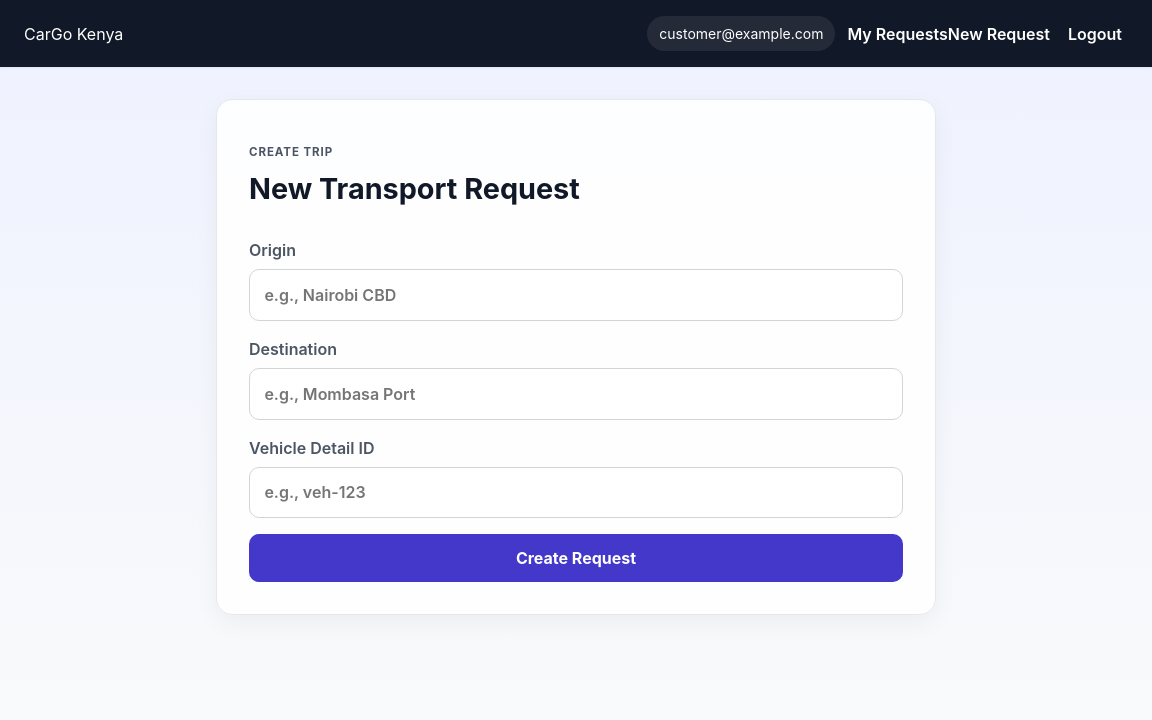
Test: customer foundation workflow › validates vehicleDetailId field when creating a transport request
Step 1. Type "Nairobi" into the field labelled "Origin" → (576, 295), box top-left (249, 269), bottom-right (903, 321)
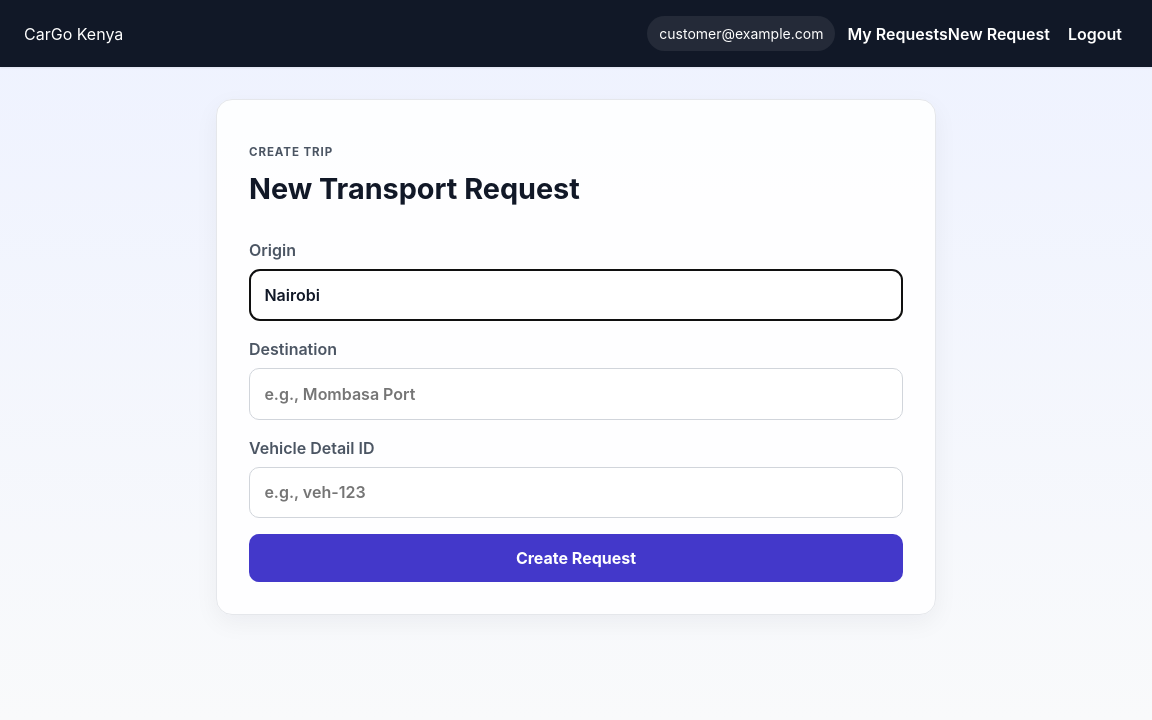
Step 2. Type "Mombasa" into the field labelled "Destination" → (576, 394), box top-left (249, 368), bottom-right (903, 420)
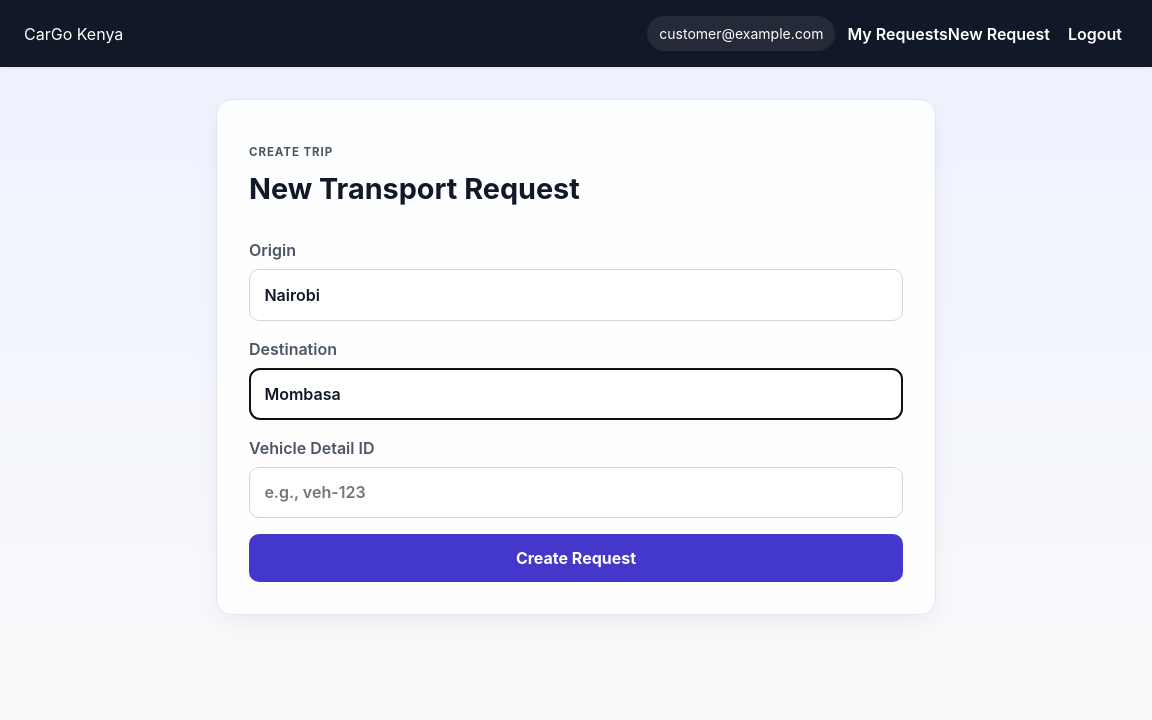
Step 3. Click the button "Create Request" → click(576, 558), box top-left (249, 534), bottom-right (903, 582)
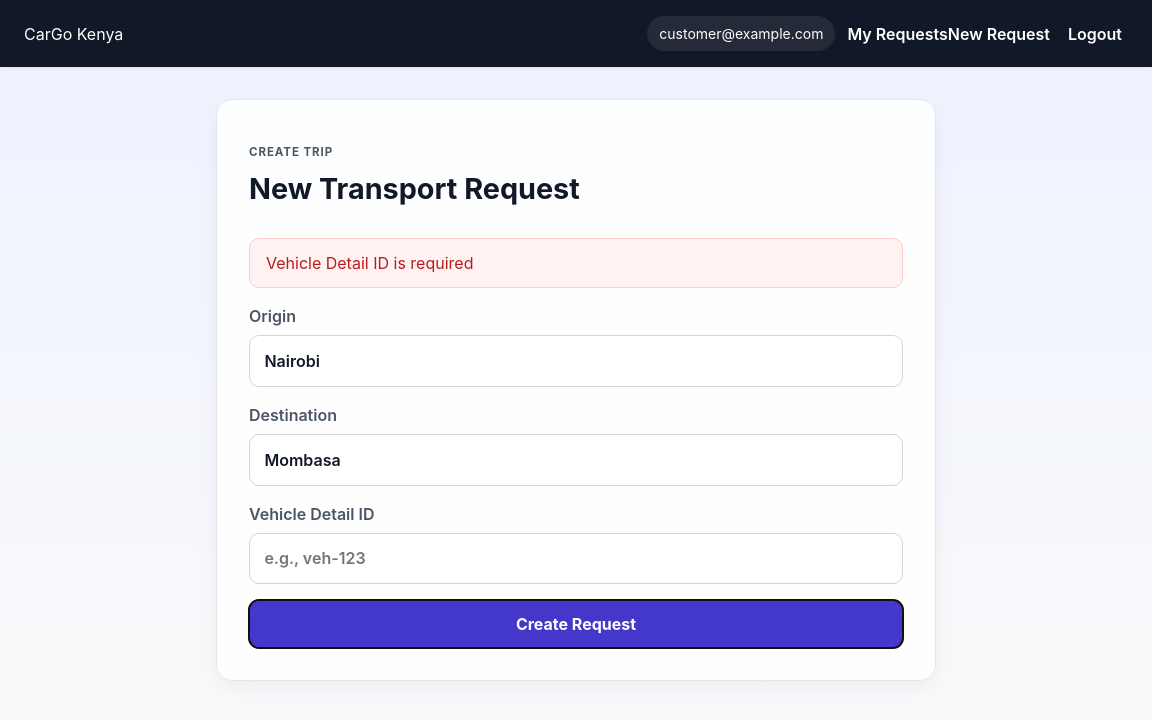
Check: the text "Vehicle Detail ID is required" is shown, box top-left (249, 238), bottom-right (903, 288)
